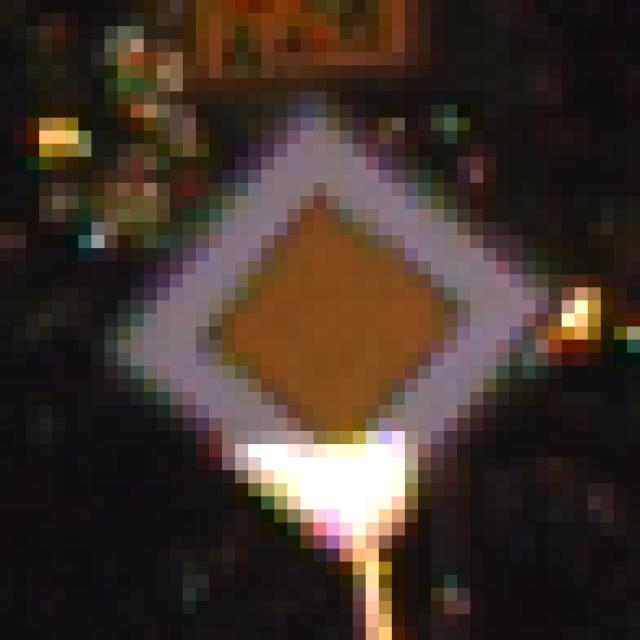Main Road: (79, 79, 576, 576)
